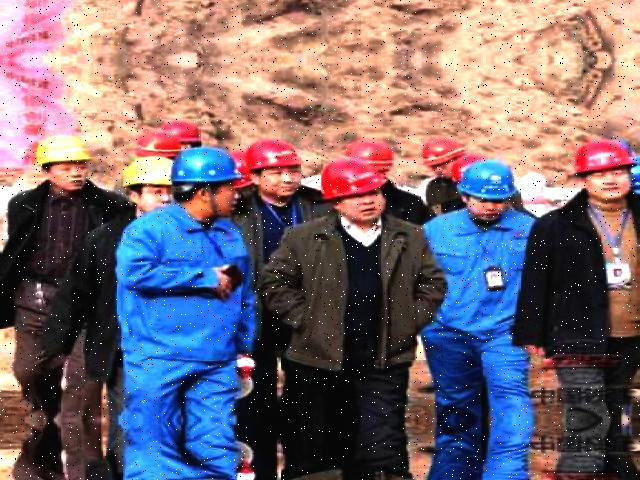Helmet: (313, 154, 389, 206), (564, 135, 638, 185), (165, 142, 239, 187), (454, 154, 522, 202), (236, 134, 305, 175), (29, 132, 97, 172), (412, 134, 462, 168)
